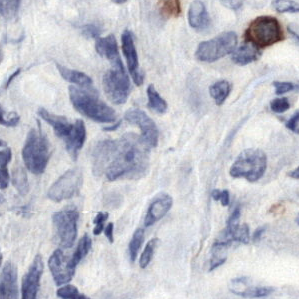Lymphocyte: (245, 15, 284, 49)
